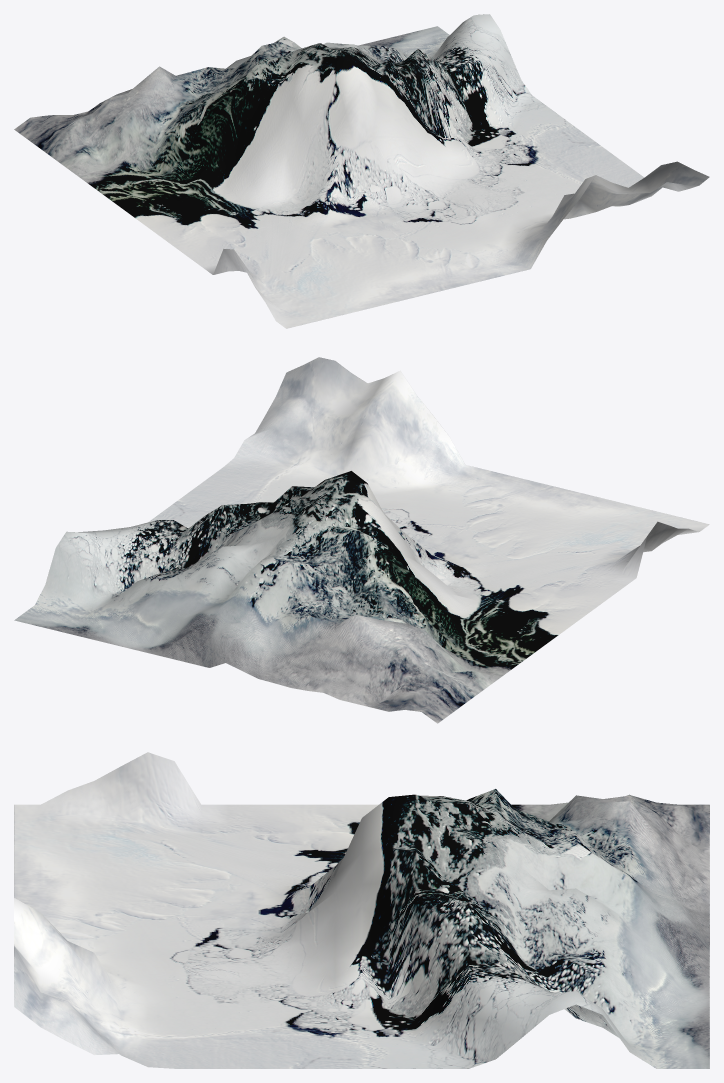
File: snowymountainSCENE.FBX
The picture shows the model from 3 angles, top to bottom: view 1: azimuth 30°, elevation 25°; view 2: azimuth 150°, elevation 25°; view 3: azimuth 270°, elevation 25°; orthographic projection. The views are drawn at different scales.
Parts seen in each view (by area): view 1: Plane001; view 2: Plane001; view 3: Plane001.
Boxes of the visible parts, <box> form: Plane001: <box>14,14,709,328</box>; Plane001: <box>14,357,709,723</box>; Plane001: <box>14,752,709,1068</box>.
Bounding box in the file's own units: 109 × 27.47 × 122.
